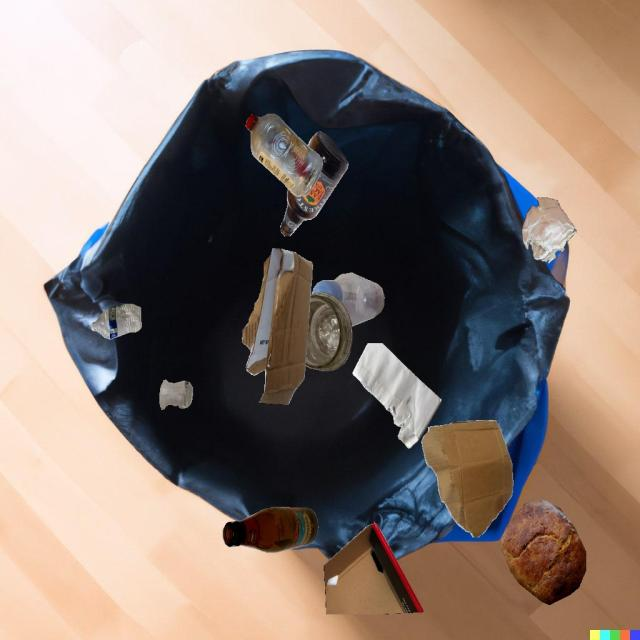biowaste: (501, 499, 586, 605)
cardboard: (242, 248, 313, 405), (421, 420, 513, 538), (324, 522, 424, 614)
glass: (280, 132, 348, 236), (223, 507, 318, 553), (305, 292, 353, 371), (159, 379, 193, 410)
paper: (352, 343, 442, 449), (522, 197, 577, 264)
plastic: (246, 114, 323, 197), (312, 273, 385, 326), (91, 304, 142, 340)
